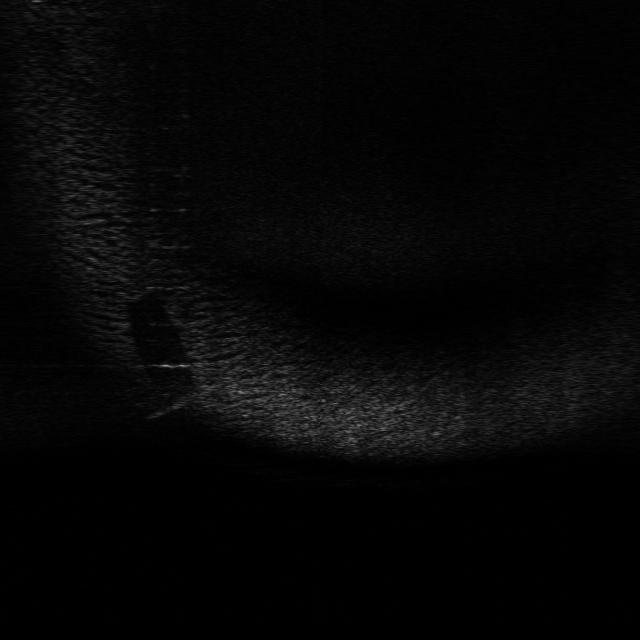cube: (124, 379, 194, 422)
